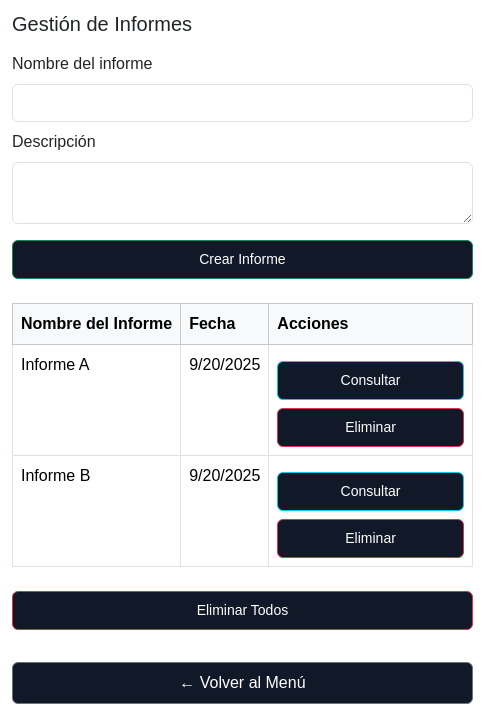
Test: GestionInformes › elimina todos los informes y muestra mensaje de éxito
Expected: the text "Informe A" is shown, [12,344,181,456]
Step 1. Click the button "Eliminar Todos" → click(242, 610), box [12,591,473,630]
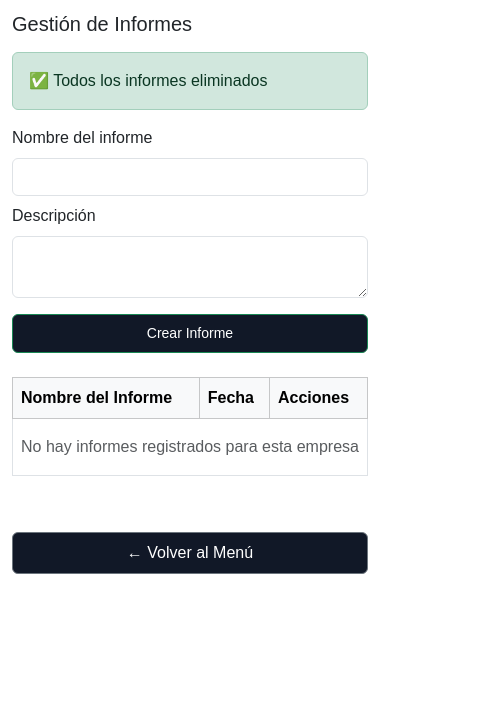
Expected: the text "✅ Todos los informes eliminados" is shown, [12,52,368,110]
